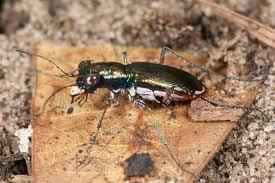Insects: (14, 42, 272, 179)
